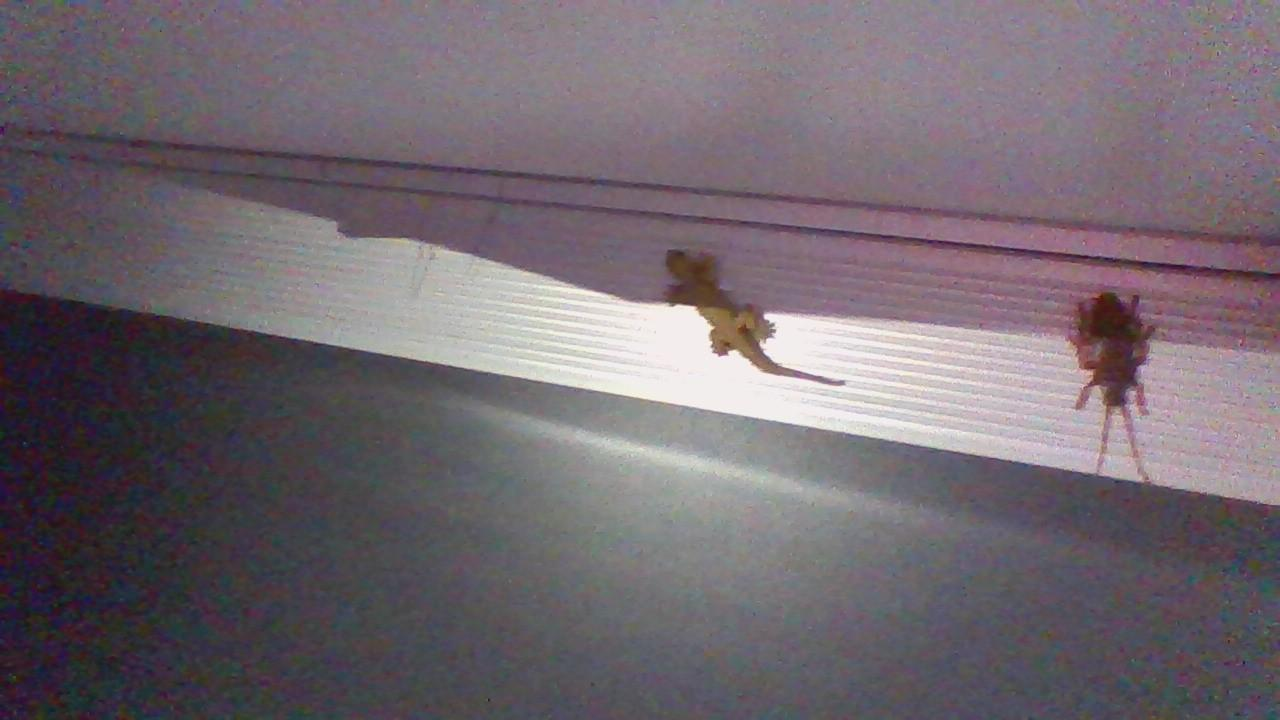cockroach: (1060, 267, 1158, 497)
lizard: (646, 222, 870, 434)
